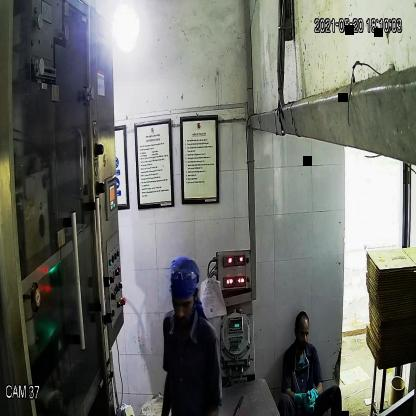no_goggles: (170, 294, 196, 315), (294, 322, 311, 342)
